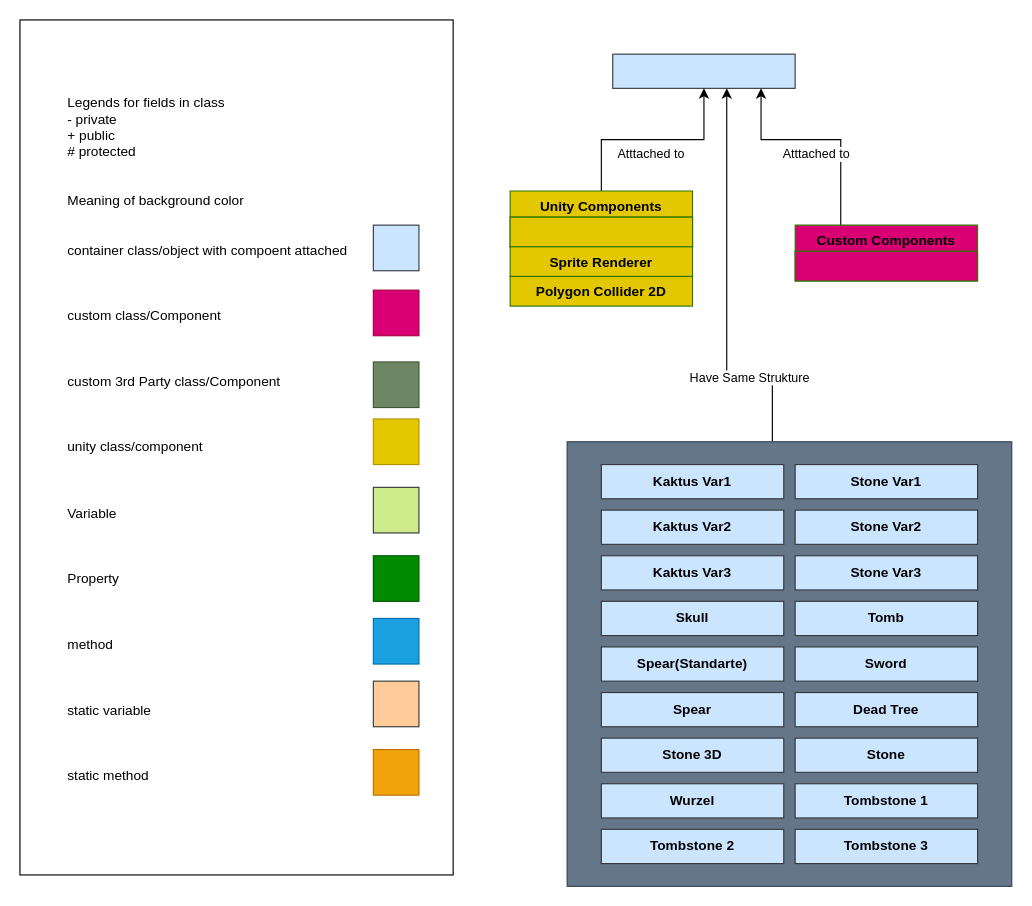
The diagram is 1032 pixels wide and 906 high, and some of its shapes have lost their labels. The shapes that lost their labels are listed below. From the top down, each one's centre as x and y in pixels, then its label:
At (x=703, y=70): "Prefab".
At (x=601, y=231): "Transfrom".
At (x=886, y=265): "Position Renderer Sorter".
